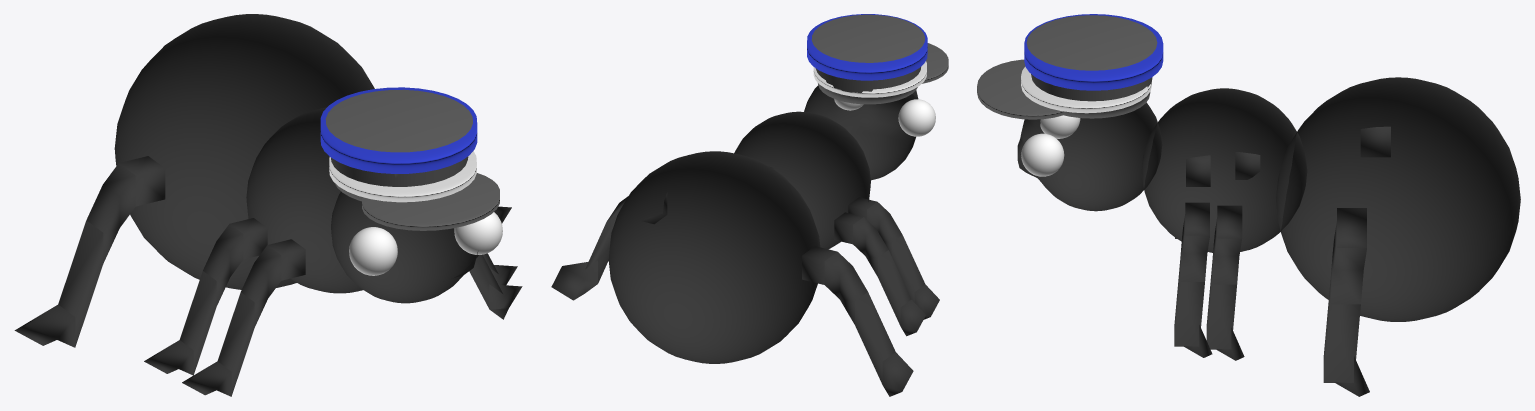
File: base_fourmi_noire_generale.dae
3 views of the same model, side by side, from view 1: azimuth 30°, elevation 25°; view 2: azimuth 150°, elevation 25°; view 3: azimuth 270°, elevation 25° (orthographic). The views are drawn at different scales.
Parts seen in each view (by area): view 1: Cube_003, Cylinder_003; view 2: Cube_003, Cylinder_003; view 3: Cube_003, Cylinder_003.
Boxes of the visible parts, x1,y1,x2,y2 form: Cube_003: (14, 14, 522, 396); Cylinder_003: (320, 87, 499, 230); Cube_003: (551, 85, 939, 396); Cylinder_003: (807, 14, 948, 104); Cube_003: (1017, 77, 1520, 396); Cylinder_003: (977, 14, 1163, 119).
Bounding box in the file's own units: 2.99 × 3.38 × 1.81.
